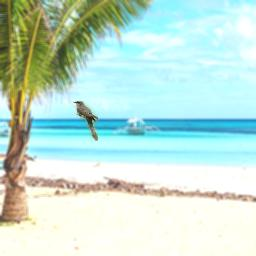Cuckoo: (73, 101, 98, 141)
